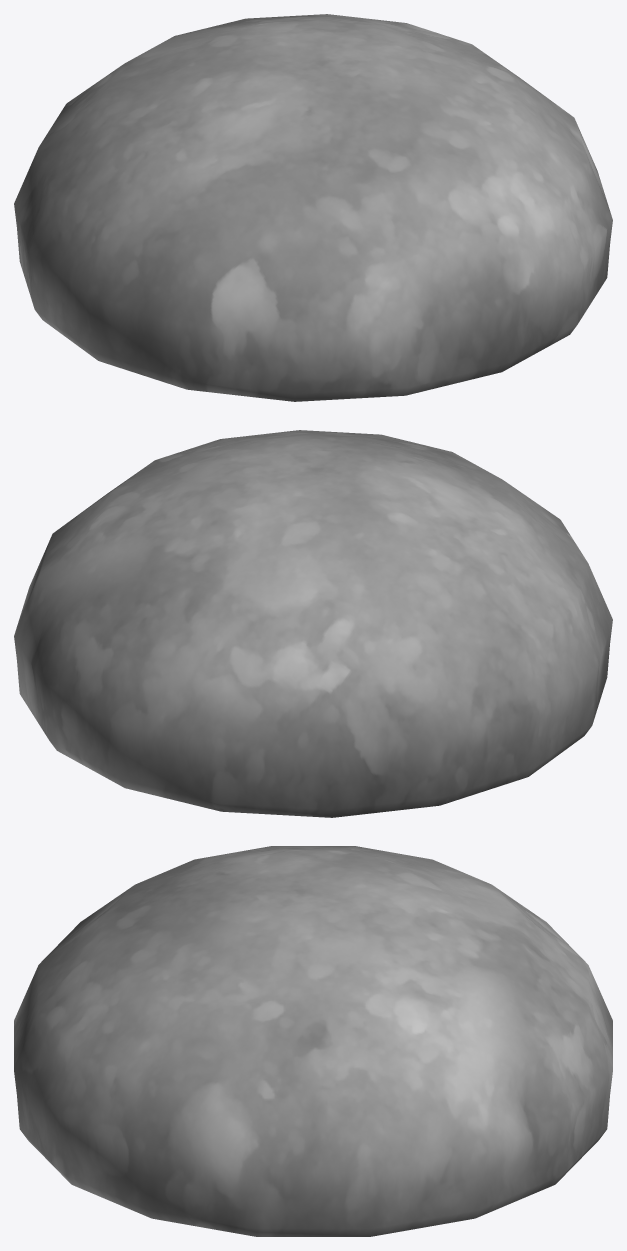
File: SM_Bread_01a.fbx
3 renders of one model, top to bottom at view 1: azimuth 30°, elevation 25°; view 2: azimuth 150°, elevation 25°; view 3: azimuth 270°, elevation 25°, orthographic.
Visible parts, largest first — view 1: SM_Bread_01a_LOD0; view 2: SM_Bread_01a_LOD0; view 3: SM_Bread_01a_LOD0.
Boxes of the visible parts, x1=… form: SM_Bread_01a_LOD0: x1=14, y1=14, x2=612, y2=401; SM_Bread_01a_LOD0: x1=14, y1=430, x2=612, y2=817; SM_Bread_01a_LOD0: x1=14, y1=846, x2=612, y2=1236.
Bounding box in the file's own units: 36.66 × 36.66 × 15.26.
